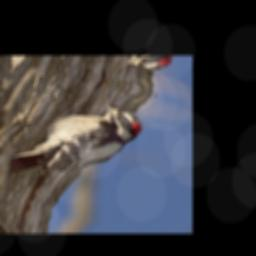Woodpecker: (5, 84, 149, 203)
